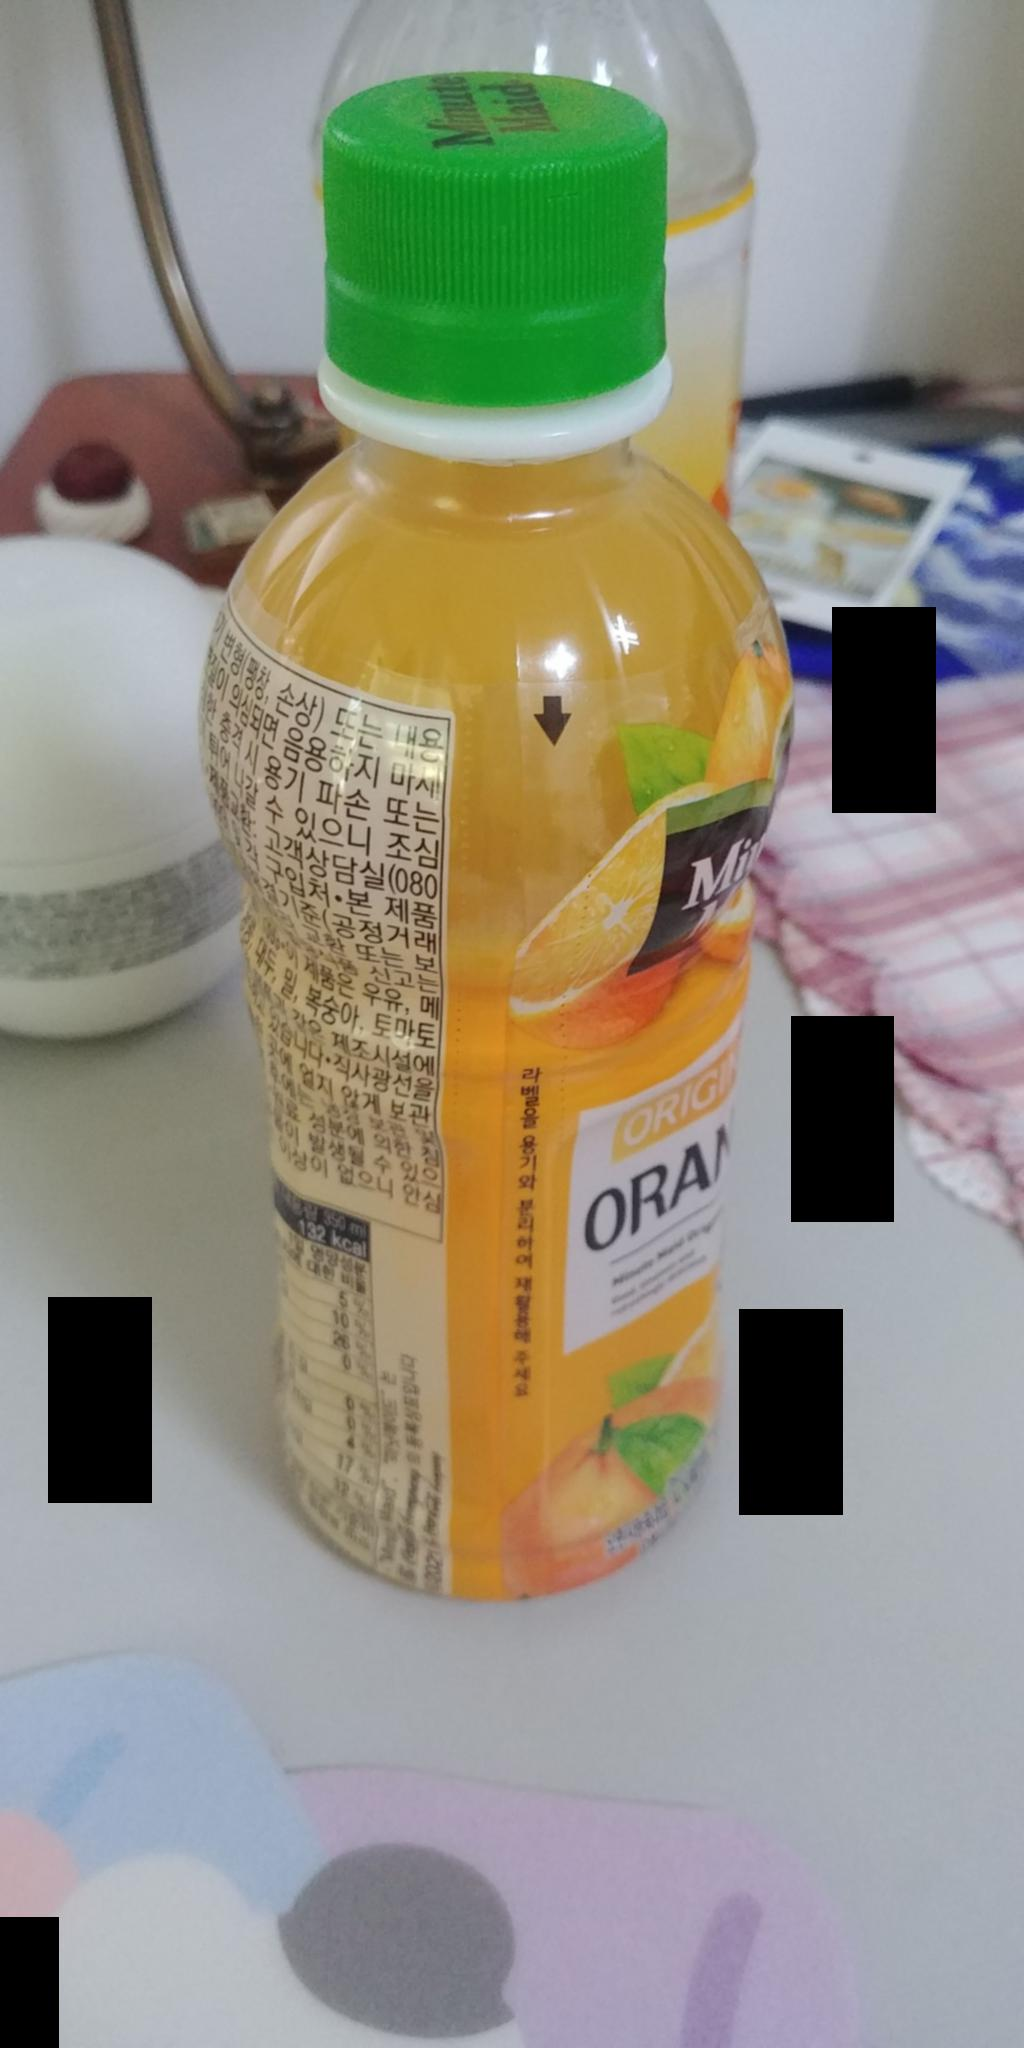minutemaid_org_orange: (204, 44, 751, 1586)
